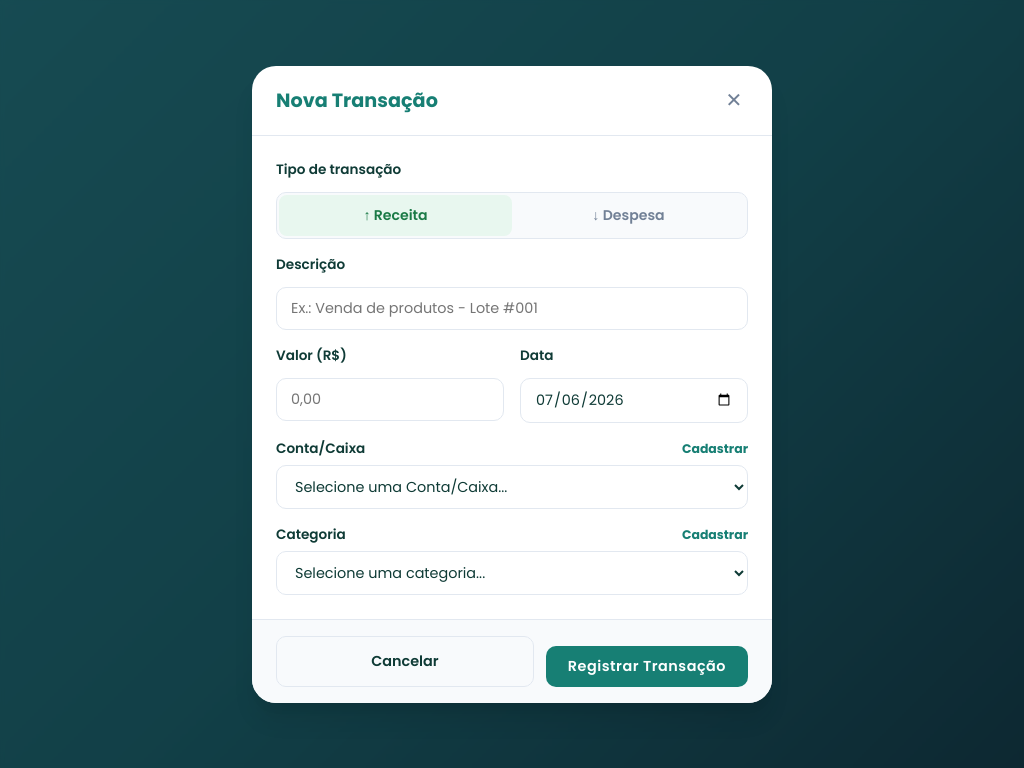
Scenario: ModalTransacao › data futura é barrada
In the field labelled "Descrição": (512, 308) left=276, top=286, right=748, bottom=330, type "Venda"
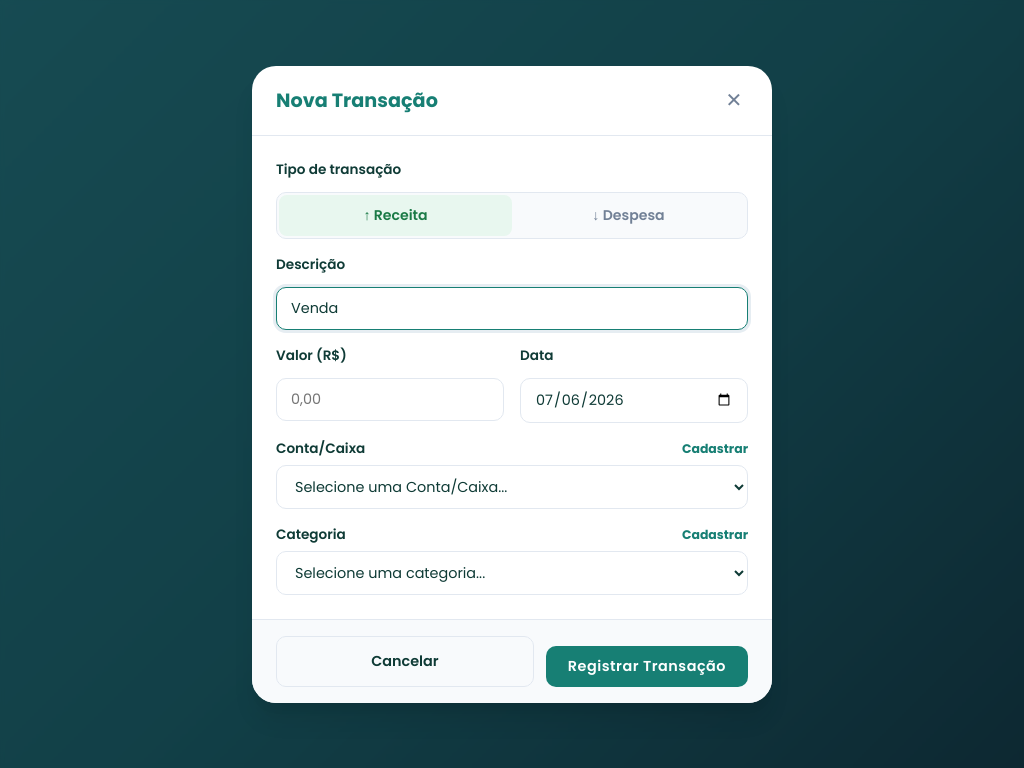
In the number field labelled "Valor (R$)": (390, 399) left=276, top=378, right=504, bottom=420, type "100"
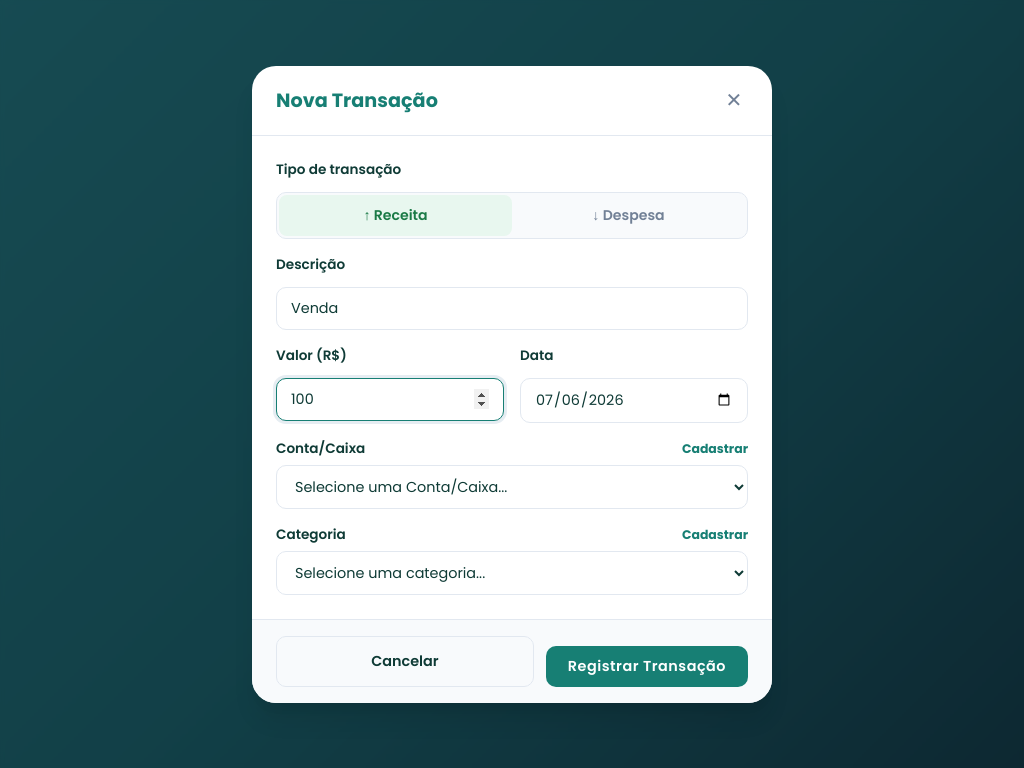
Select "Inter" in the dropdown labelled "Conta/Caixa": (512, 486) left=276, top=464, right=748, bottom=508
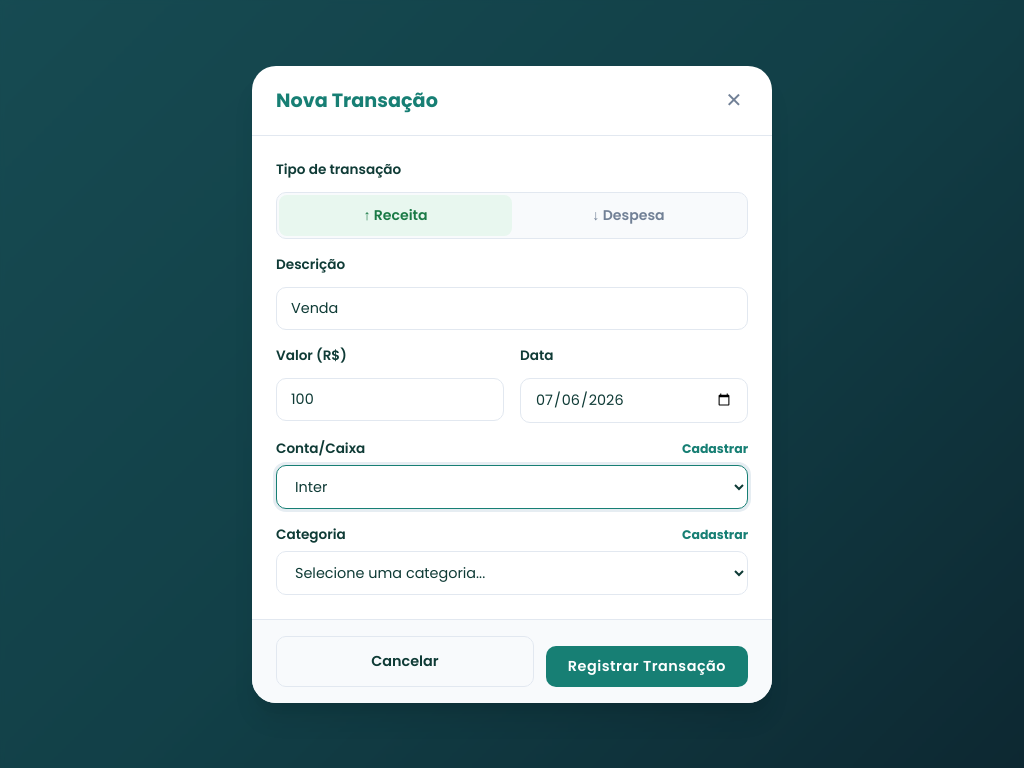
Select "Vendas" in the dropdown labelled "Categoria": (512, 572) left=276, top=550, right=748, bottom=594
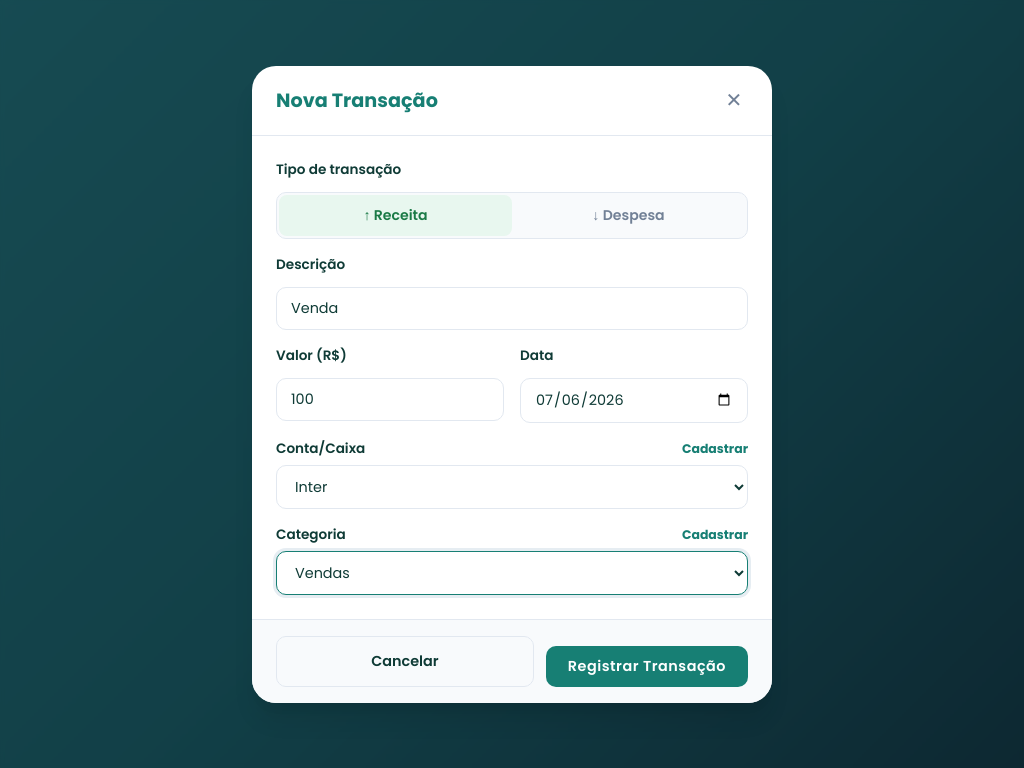
In the date field labelled "Data": (634, 400) left=520, top=378, right=748, bottom=422, type "2099-01-01"
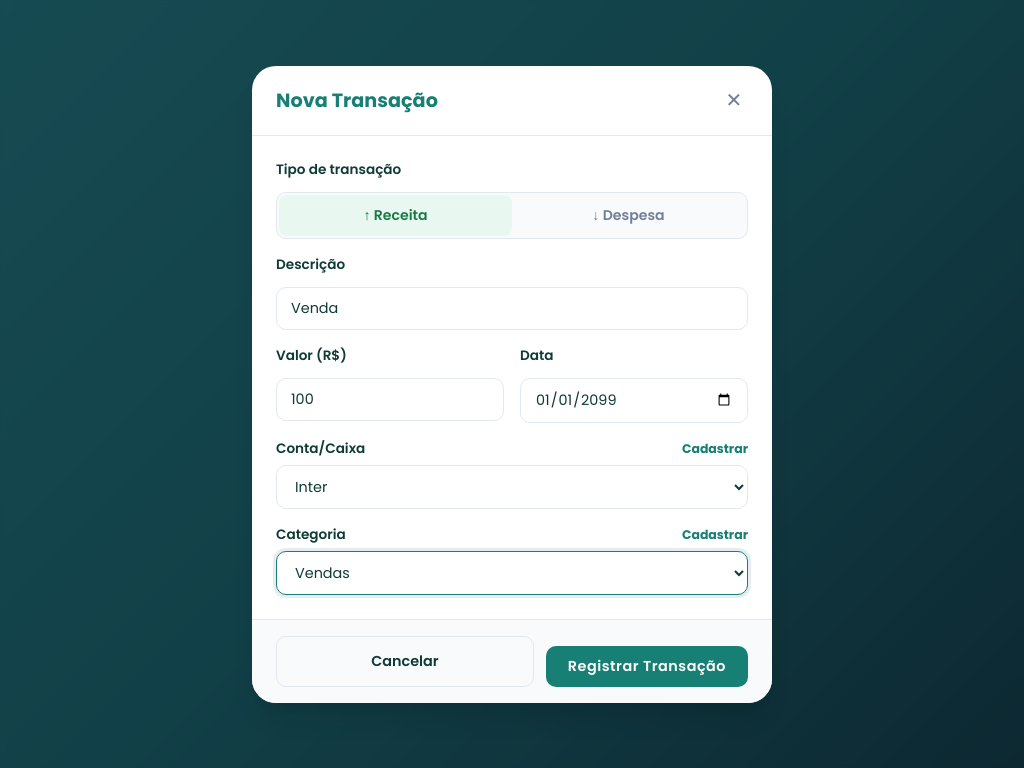
Click the button "Registrar Transação": (647, 666) left=546, top=646, right=748, bottom=686
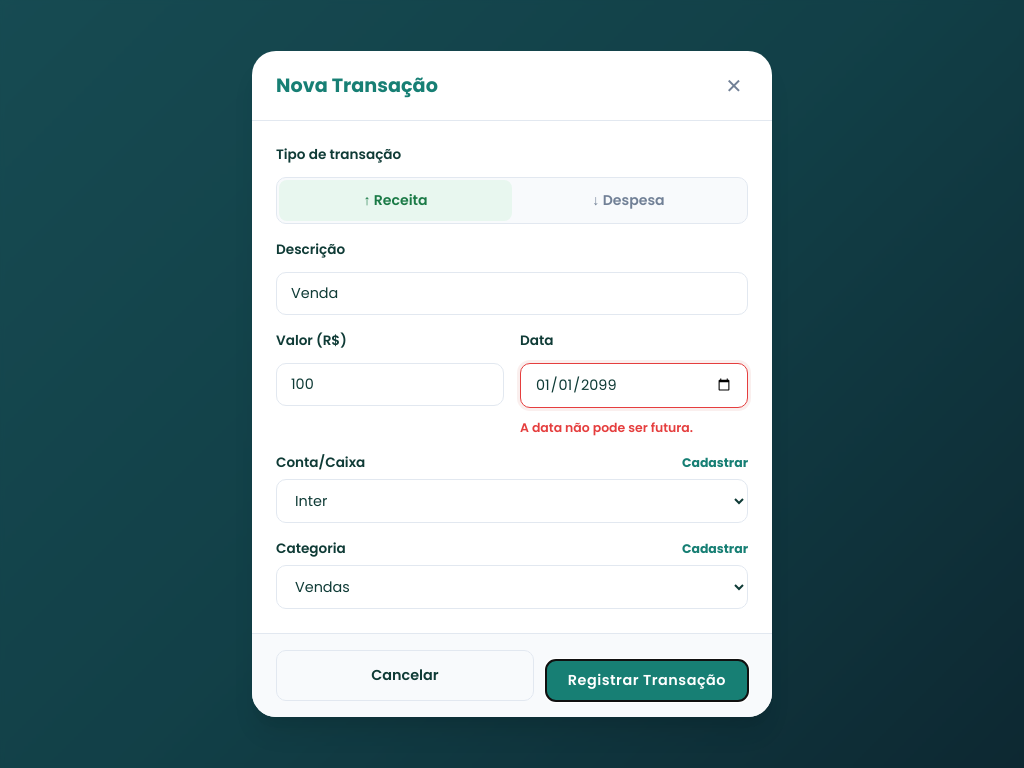
Now the text "A data não pode ser futura." is shown, box left=520, top=419, right=693, bottom=436
